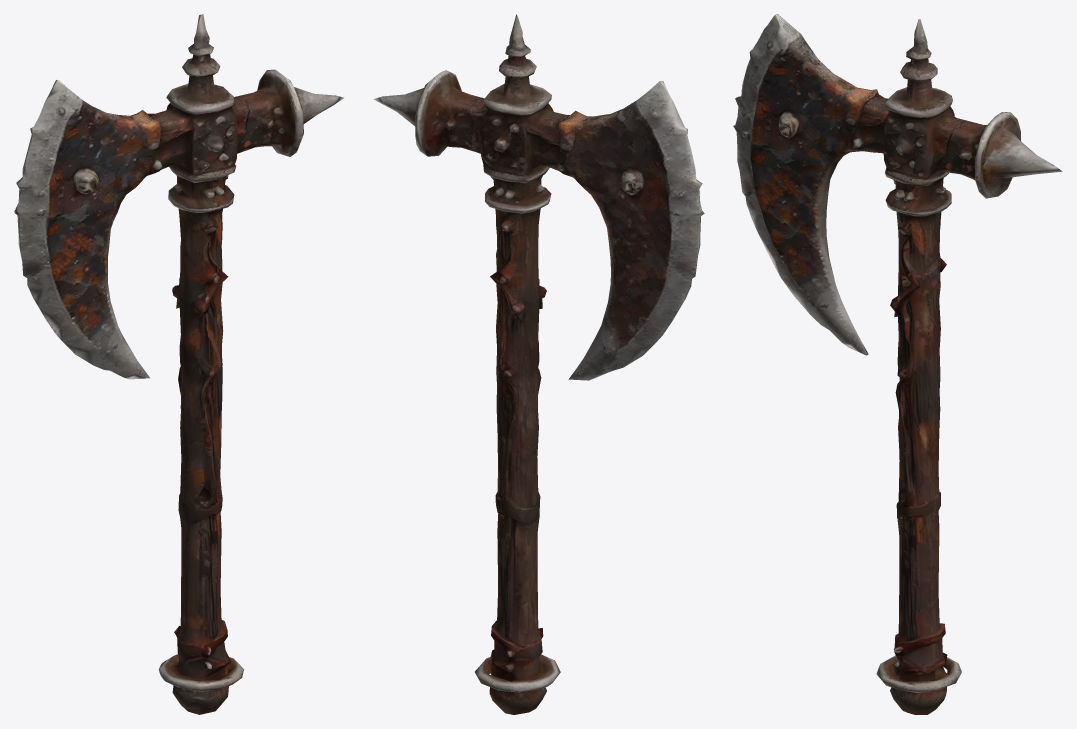
File: Sk_Axe-71W_AuZT.glb
3 views of the same model, side by side, from view 1: azimuth 30°, elevation 25°; view 2: azimuth 150°, elevation 25°; view 3: azimuth 330°, elevation 25° (orthographic).
Visible parts, largest first — view 1: Sk_Axe; view 2: Sk_Axe; view 3: Sk_Axe.
Part boxes in pixels (x1,y1,x2,y2): Sk_Axe: (14,14,344,714); Sk_Axe: (373,14,704,714); Sk_Axe: (733,14,1062,714).
Bounding box in the file's own units: 0.6204 × 1.25 × 0.1428.
1 material, 1 textured.
